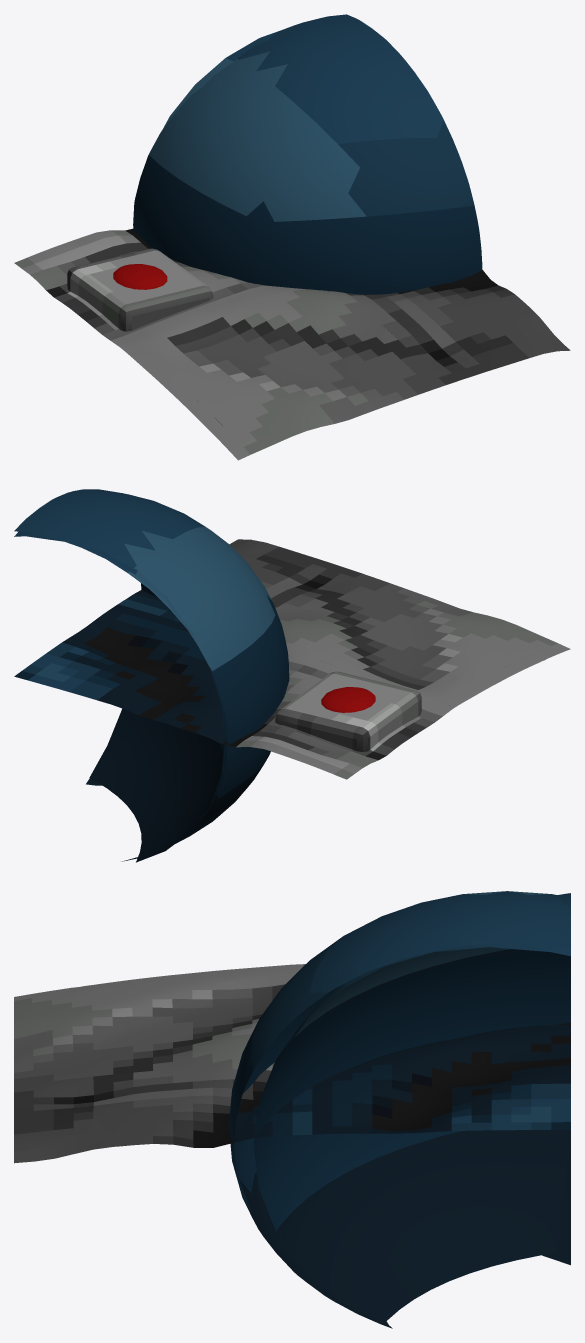
The model's file is camanis_boss_117.glb.
3 views of the same model, one above another, from view 1: azimuth 30°, elevation 25°; view 2: azimuth 150°, elevation 25°; view 3: azimuth 270°, elevation 25° (orthographic). The views are drawn at different scales.
Parts seen in each view (by area): view 1: camanis_boss_117_tank_lobe, camanis_boss_117_hull, camanis_boss_117_port, camanis_boss_117_port_muzzle, camanis_boss_117_tank; view 2: camanis_boss_117_hull, camanis_boss_117_tank_lobe, camanis_boss_117_tank, camanis_boss_117_port, camanis_boss_117_port_muzzle; view 3: camanis_boss_117_tank, camanis_boss_117_hull, camanis_boss_117_tank_lobe.
Boxes of the visible parts, x1=… form: camanis_boss_117_tank_lobe: x1=133, y1=14, x2=482, y2=294; camanis_boss_117_hull: x1=14, y1=228, x2=570, y2=460; camanis_boss_117_port: x1=67, y1=248, x2=213, y2=331; camanis_boss_117_port_muzzle: x1=113, y1=264, x2=167, y2=289; camanis_boss_117_tank: x1=163, y1=31, x2=278, y2=127; camanis_boss_117_hull: x1=14, y1=539, x2=570, y2=779; camanis_boss_117_tank_lobe: x1=14, y1=489, x2=289, y2=861; camanis_boss_117_tank: x1=14, y1=531, x2=227, y2=862; camanis_boss_117_port: x1=275, y1=671, x2=421, y2=751; camanis_boss_117_port_muzzle: x1=321, y1=687, x2=375, y2=712; camanis_boss_117_tank: x1=253, y1=893, x2=570, y2=1323; camanis_boss_117_hull: x1=14, y1=964, x2=570, y2=1163; camanis_boss_117_tank_lobe: x1=228, y1=891, x2=570, y2=1328.
Size of the model in its own units: 23.98 by 21.6 by 27.98.
